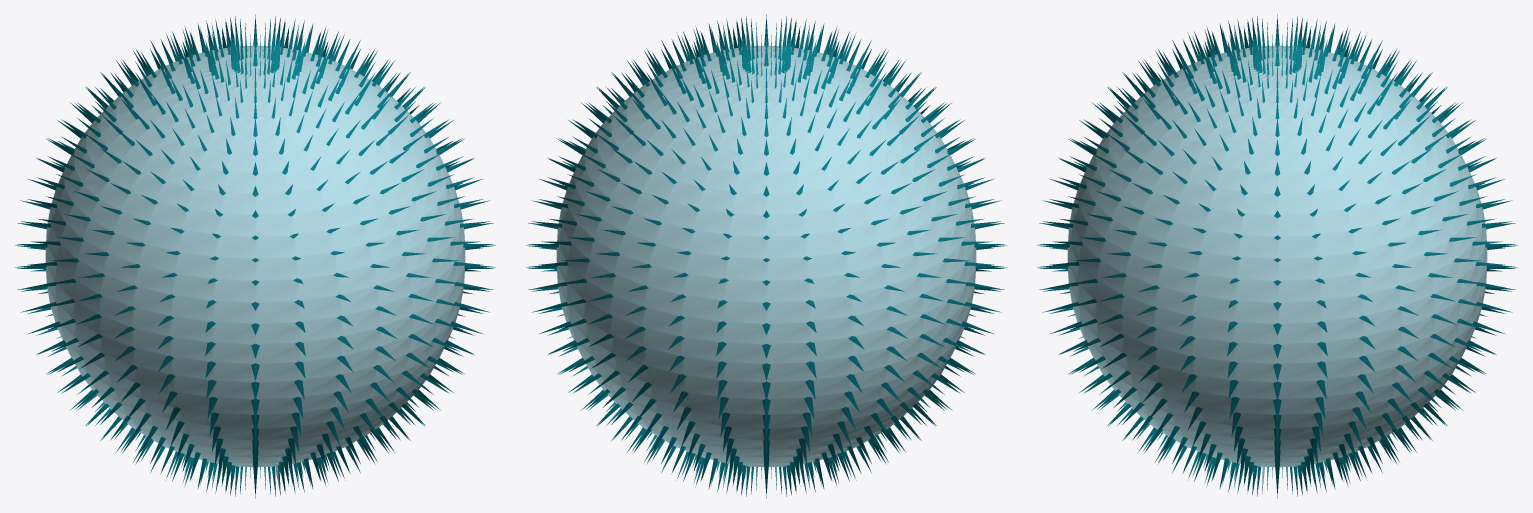
Rendered from Ice.fbx.
3 renders of one model, left to right at view 1: azimuth 30°, elevation 25°; view 2: azimuth 150°, elevation 25°; view 3: azimuth 270°, elevation 25°, orthographic.
Visible parts, largest first — view 1: pSphere1; view 2: pSphere1; view 3: pSphere1.
Part boxes in pixels (x1,y1,x2,y2): pSphere1: (15,14,495,498); pSphere1: (526,14,1006,498); pSphere1: (1037,14,1517,498).
Size of the model in its own units: 2.3 by 2.3 by 2.29.
